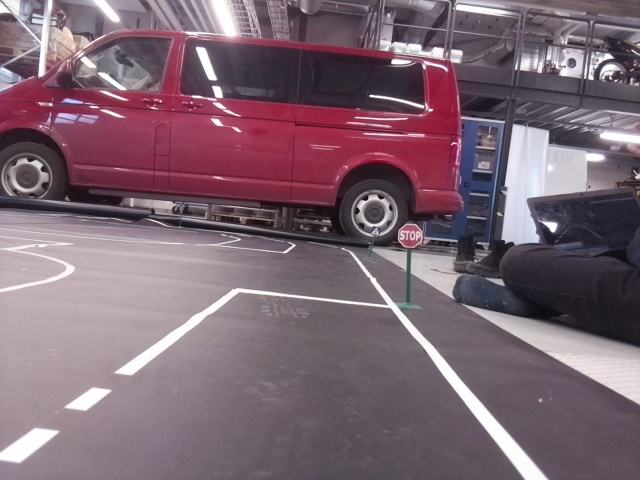Stop: (399, 223, 422, 247)
